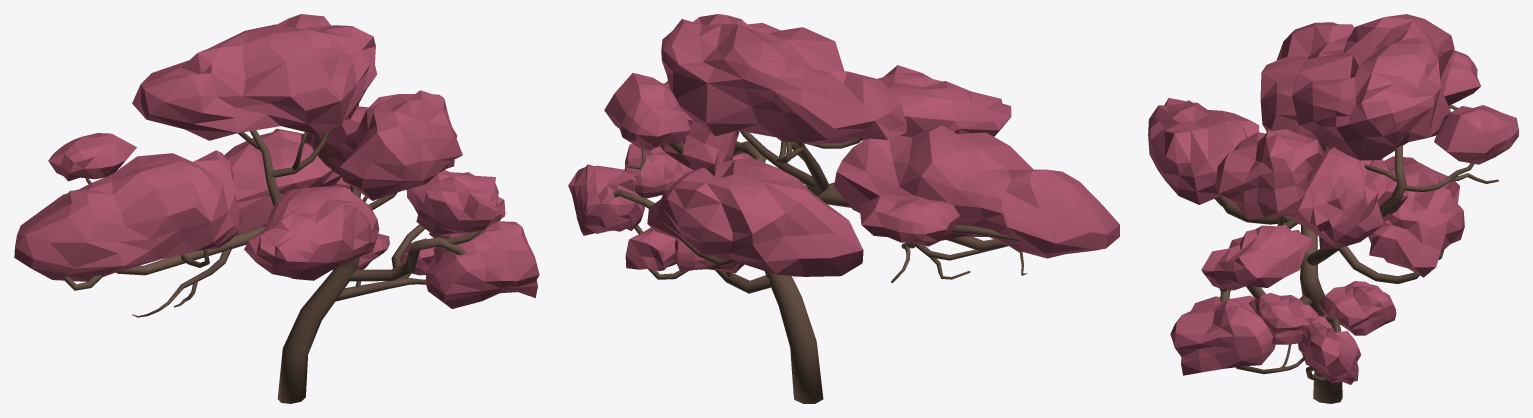
Rendered from x_pink_tree1.fbx.
3 views of the same model, side by side, from view 1: azimuth 30°, elevation 25°; view 2: azimuth 150°, elevation 25°; view 3: azimuth 270°, elevation 25° (orthographic). The views are drawn at different scales.
Visible parts, largest first — view 1: x_pink_tree1_baked; view 2: x_pink_tree1_baked; view 3: x_pink_tree1_baked.
Part boxes in pixels (bbox=[...]): x_pink_tree1_baked: bbox=[14, 14, 539, 403]; x_pink_tree1_baked: bbox=[568, 14, 1119, 403]; x_pink_tree1_baked: bbox=[1148, 14, 1518, 403].
Bounding box in the file's own units: 9.09 × 6.13 × 5.67.
